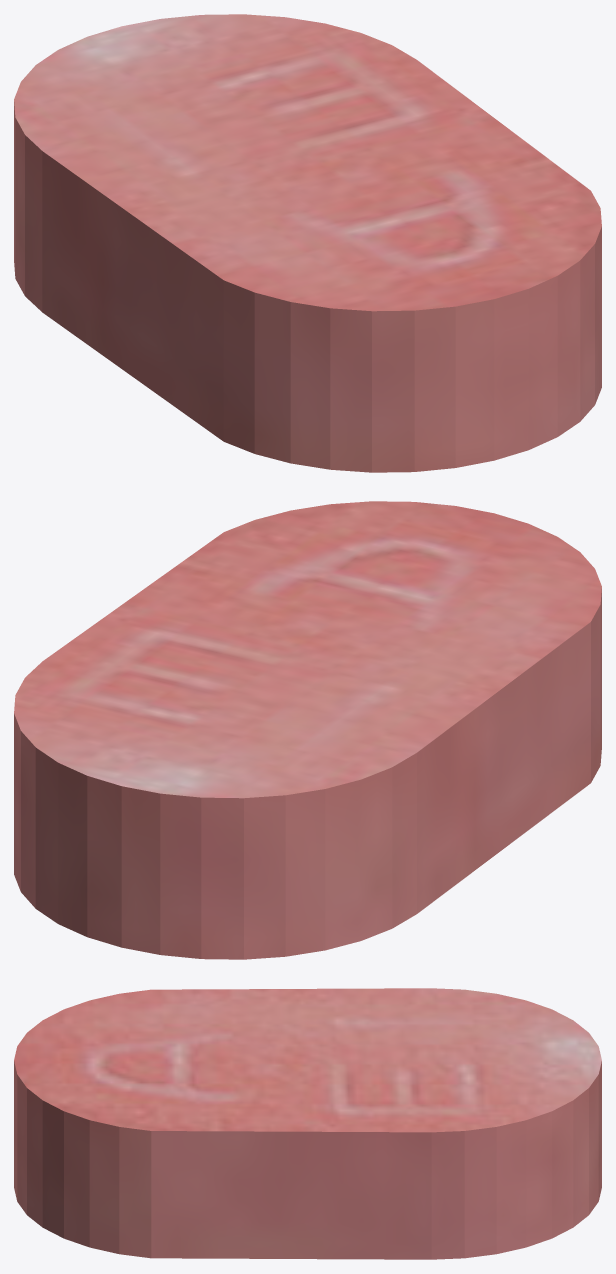
The picture shows the model from 3 angles, top to bottom: view 1: azimuth 30°, elevation 25°; view 2: azimuth 150°, elevation 25°; view 3: azimuth 270°, elevation 25°; orthographic projection. The views are drawn at different scales.
Visible parts, largest first — view 1: 圓柱體; view 2: 圓柱體; view 3: 圓柱體.
Boxes of the visible parts, bbox=[...] form: 圓柱體: bbox=[14, 14, 601, 472]; 圓柱體: bbox=[14, 501, 601, 959]; 圓柱體: bbox=[14, 988, 601, 1259].
Size of the model in its own units: 1.7 by 0.7007 by 2.93.
1 material, 1 textured.
